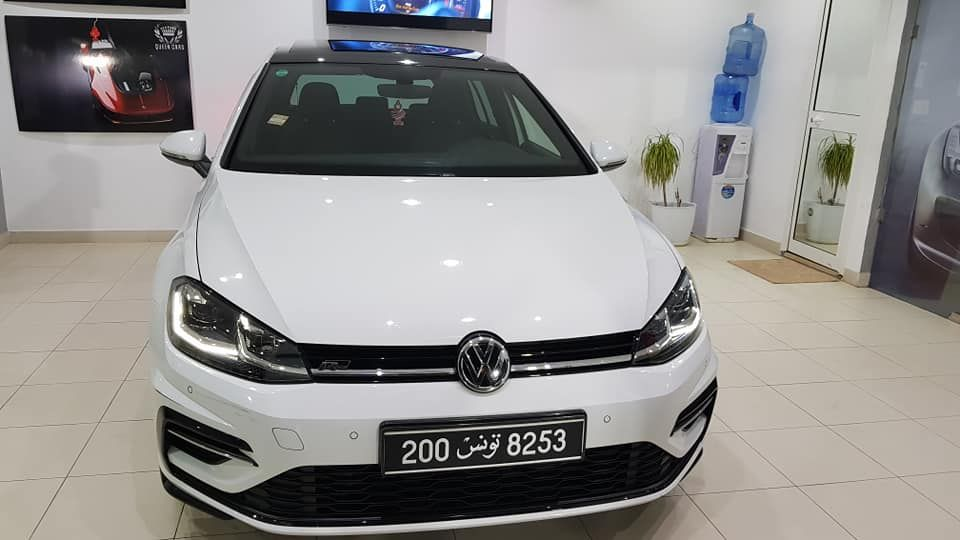LP: (382, 416, 586, 474)
